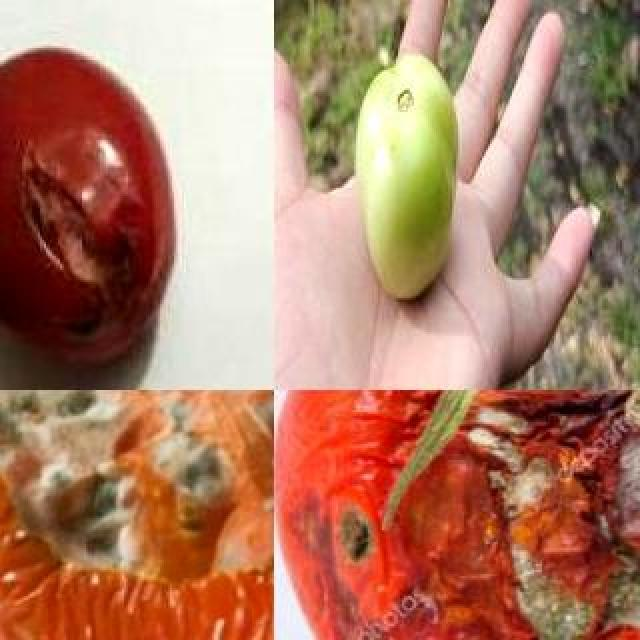Rotten_Tomato: (274, 390, 640, 640), (0, 30, 202, 388), (0, 390, 274, 640)
